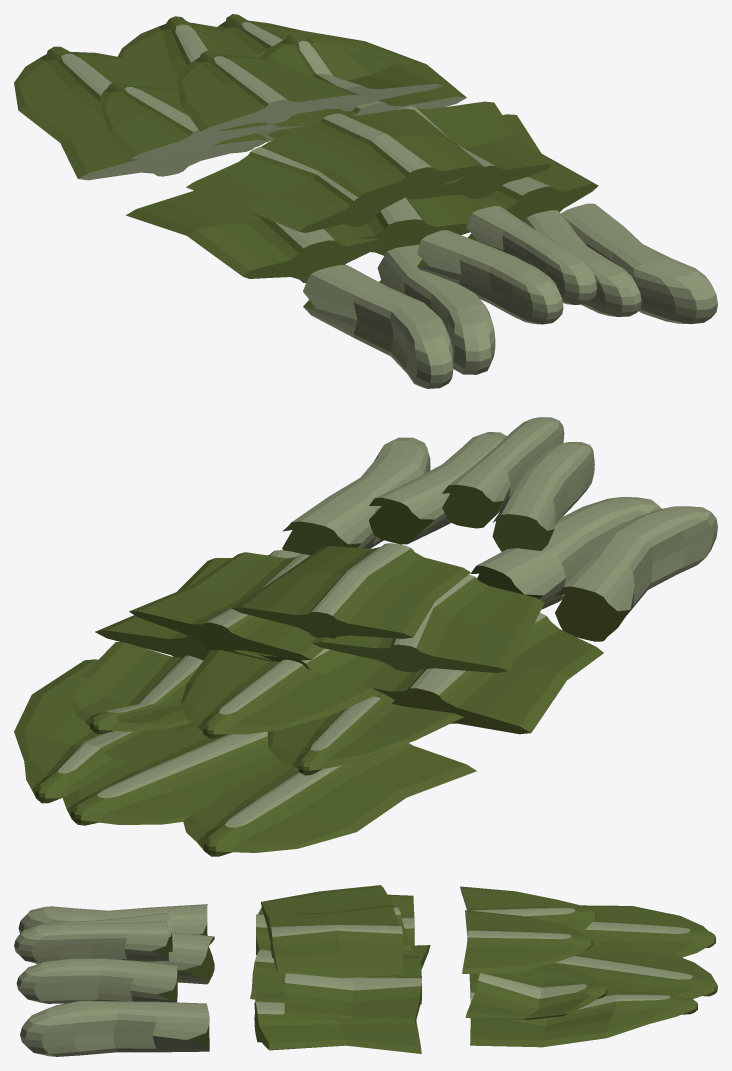
File: Mustard Leaves Sliced.fbx
The picture shows the model from 3 angles, top to bottom: view 1: azimuth 30°, elevation 25°; view 2: azimuth 150°, elevation 25°; view 3: azimuth 270°, elevation 25°; orthographic projection. The views are drawn at different scales.
Parts seen in each view (by area): view 1: Mustard Leaves Sliced; view 2: Mustard Leaves Sliced; view 3: Mustard Leaves Sliced.
Boxes of the visible parts, x1,y1,x2,y2 form: Mustard Leaves Sliced: (14, 14, 717, 388); Mustard Leaves Sliced: (14, 417, 717, 856); Mustard Leaves Sliced: (14, 885, 717, 1056).
Size of the model in its own units: 36.35 by 8.35 by 68.29.
